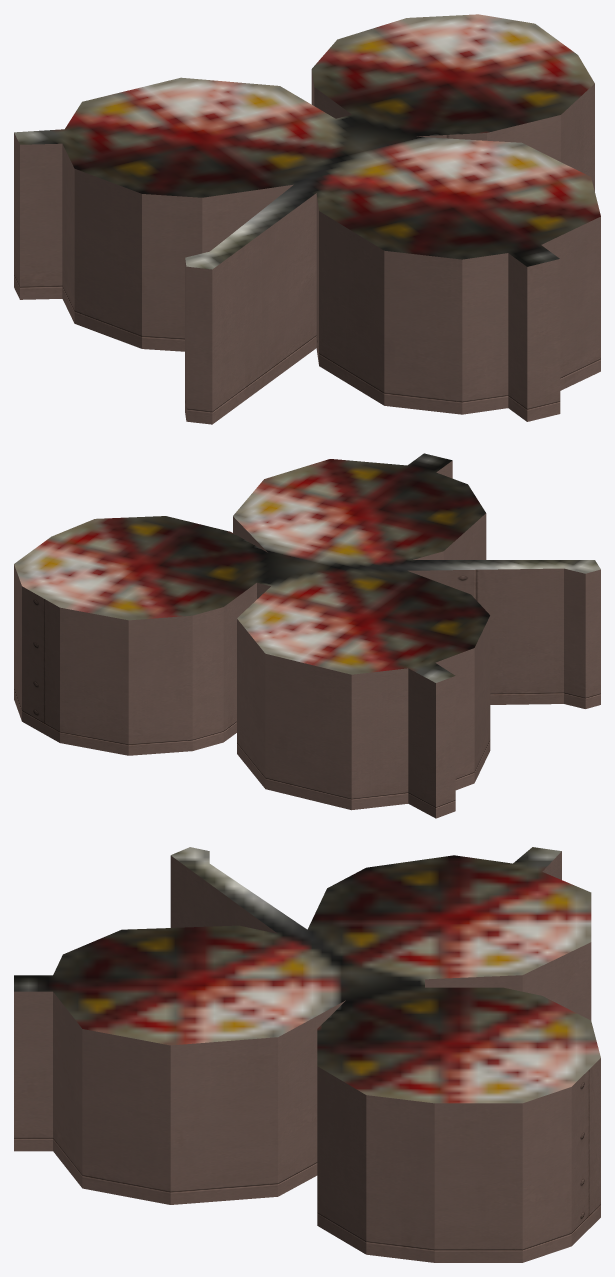
File: fuel_tank_heavy_56.glb
3 renders of one model, top to bottom at view 1: azimuth 30°, elevation 25°; view 2: azimuth 150°, elevation 25°; view 3: azimuth 270°, elevation 25°, orthographic. The views are drawn at different scales.
Visible parts, largest first — view 1: buildings/saxarba/fuel_tanks/fuel_tank_heavy_56; view 2: buildings/saxarba/fuel_tanks/fuel_tank_heavy_56; view 3: buildings/saxarba/fuel_tanks/fuel_tank_heavy_56.
Boxes of the visible parts, x1=… form: buildings/saxarba/fuel_tanks/fuel_tank_heavy_56: x1=14, y1=14, x2=600, y2=424; buildings/saxarba/fuel_tanks/fuel_tank_heavy_56: x1=14, y1=453, x2=600, y2=818; buildings/saxarba/fuel_tanks/fuel_tank_heavy_56: x1=14, y1=847, x2=600, y2=1262.
Size of the model in its own units: 62 by 18 by 60.
